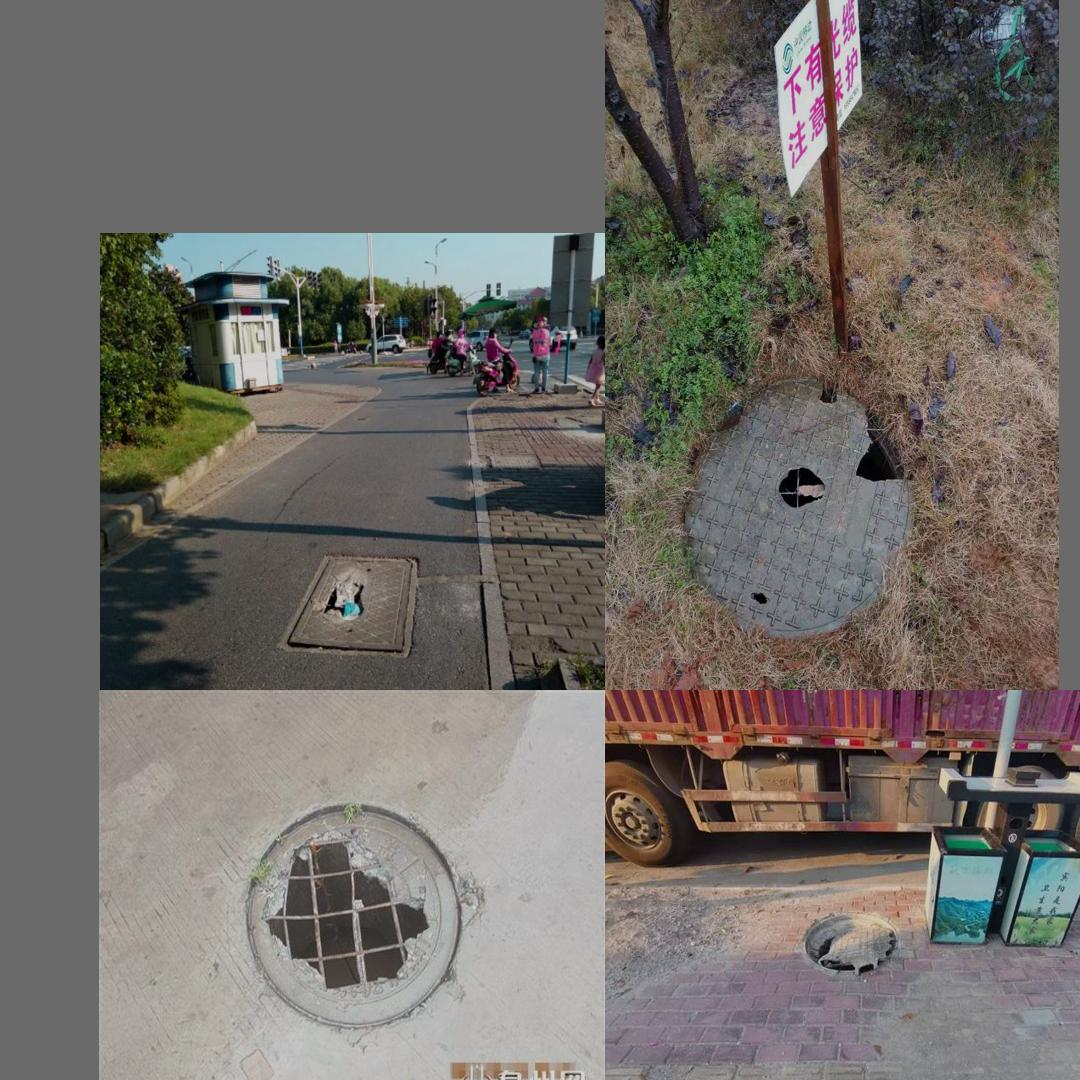broke: (220, 787, 493, 1051), (681, 374, 913, 636), (277, 552, 417, 657), (790, 897, 913, 998)
